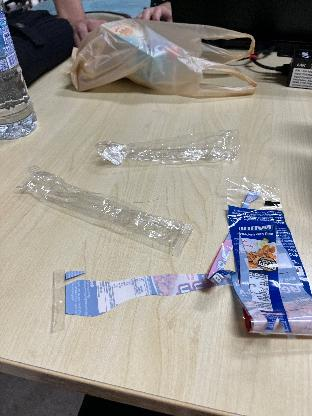Others: (220, 181, 312, 354), (28, 166, 190, 252), (93, 124, 239, 176)
